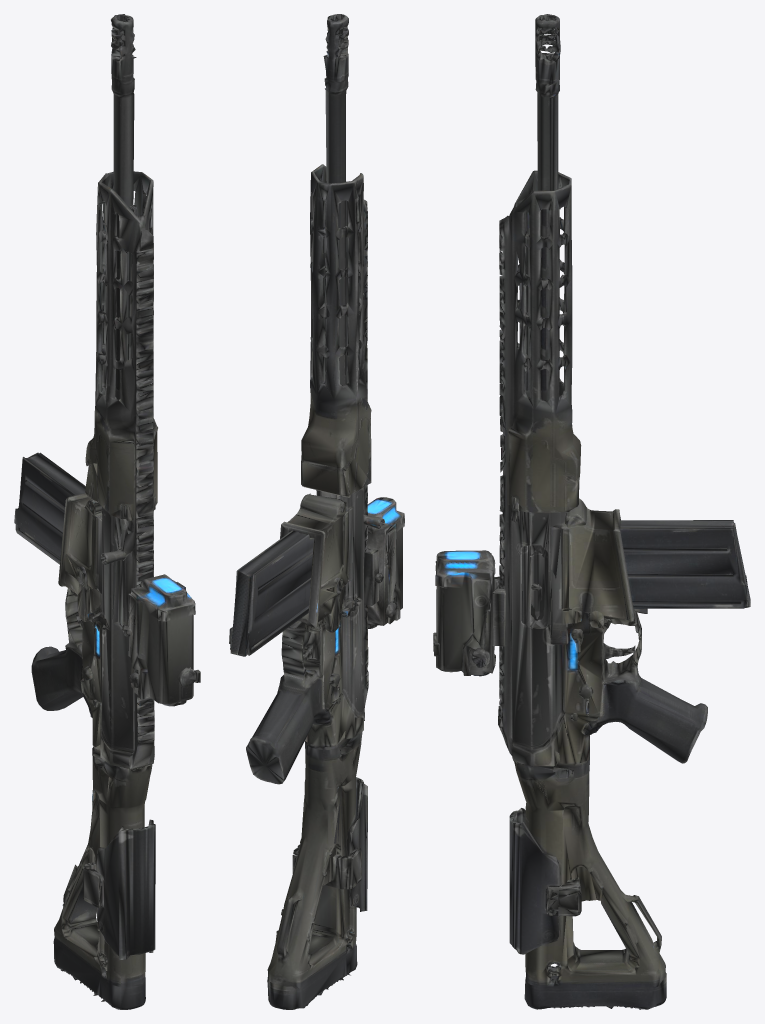
3 renders of one model, left to right at view 1: azimuth 30°, elevation 25°; view 2: azimuth 150°, elevation 25°; view 3: azimuth 270°, elevation 25°, orthographic. The views are drawn at different scales.
Visible parts, largest first — view 1: Mesh_0; view 2: Mesh_0; view 3: Mesh_0.
Part boxes in pixels (x1,y1,x2,y2): Mesh_0: (14,14,200,1009); Mesh_0: (229,14,404,1009); Mesh_0: (433,14,750,1009).
Size of the model in its own units: 0.0624 by 0.88 by 0.2571.
Materials: 1 (1 with a texture image).
